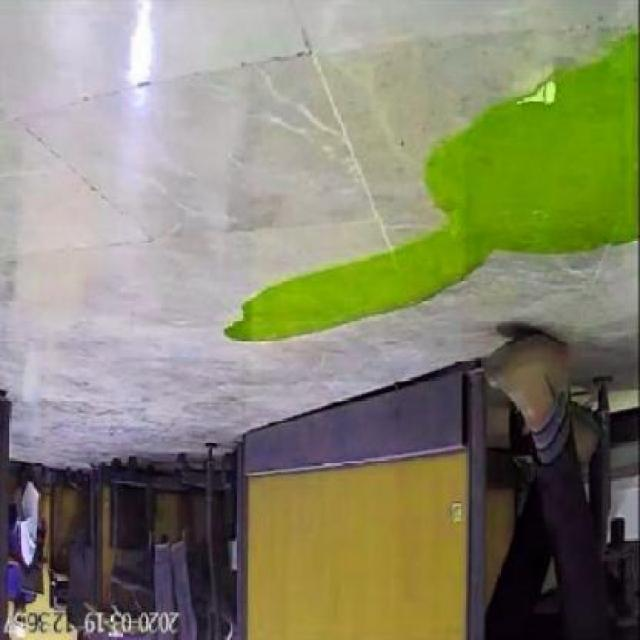spillage: (229, 27, 639, 340)
